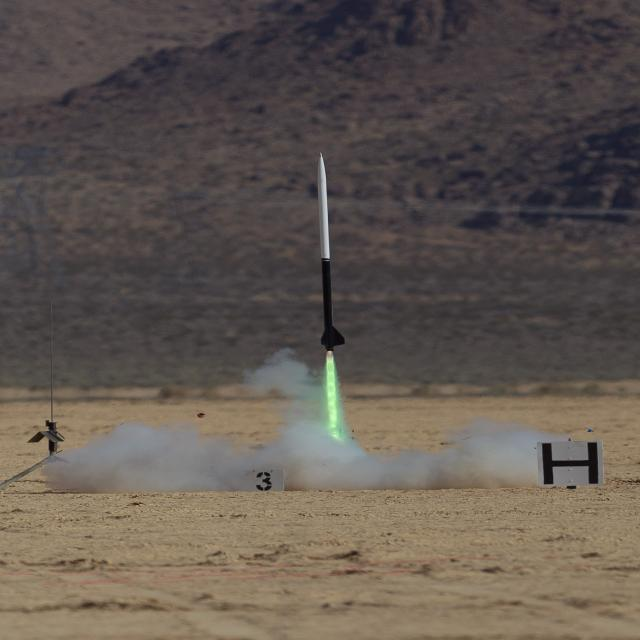Rocket: (315, 150, 348, 354)
